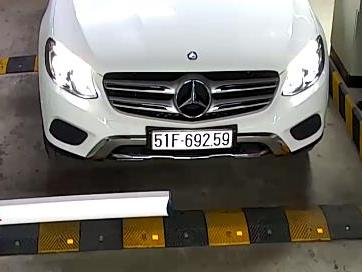number: (152, 127, 233, 151)
